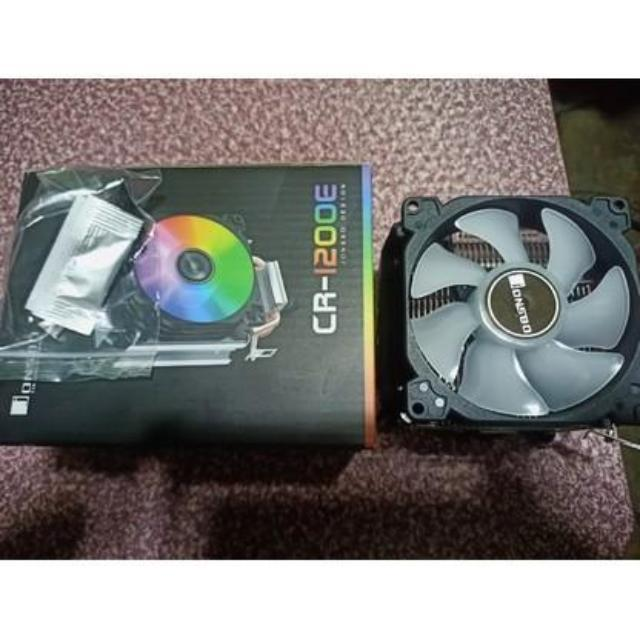CPU_Fan: (392, 190, 640, 442)
